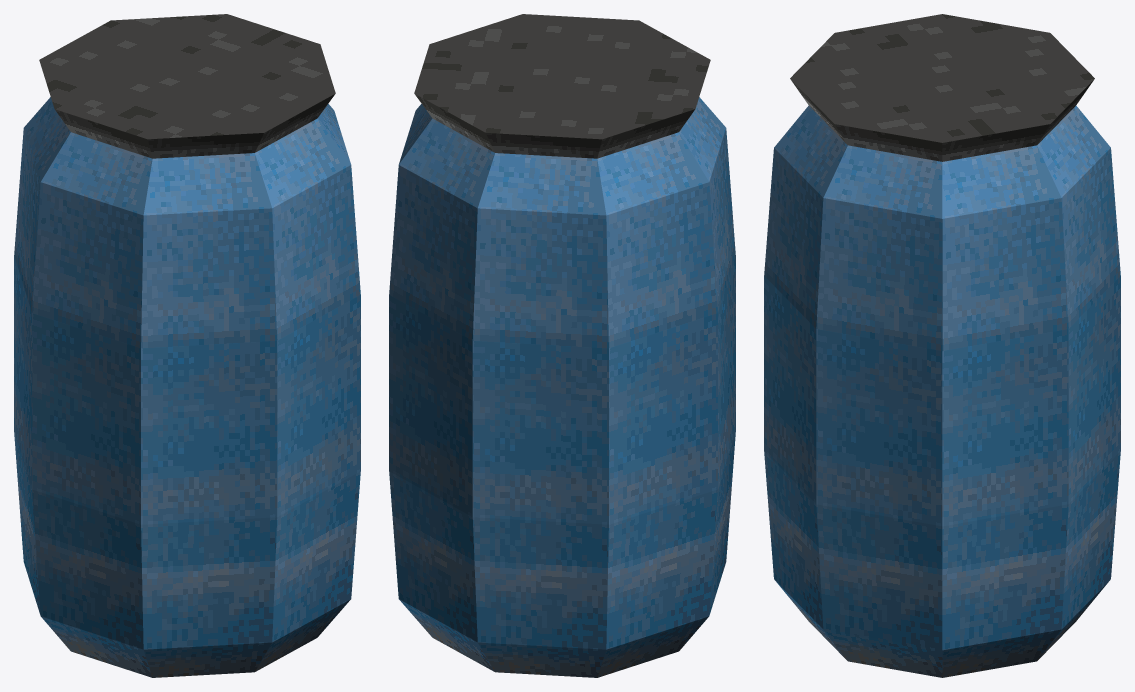
File: barrel_plastic.glb
The picture shows the model from 3 angles, left to right: view 1: azimuth 30°, elevation 25°; view 2: azimuth 150°, elevation 25°; view 3: azimuth 270°, elevation 25°; orthographic projection.
Visible parts, largest first — view 1: BarrelPlastic; view 2: BarrelPlastic; view 3: BarrelPlastic.
Part boxes in pixels (x1,y1,x2,y2): BarrelPlastic: [14, 14, 360, 677]; BarrelPlastic: [389, 14, 735, 677]; BarrelPlastic: [764, 14, 1120, 677].
Bounding box in the file's own units: 0.614 × 1.03 × 0.614.
1 material, 1 textured.
